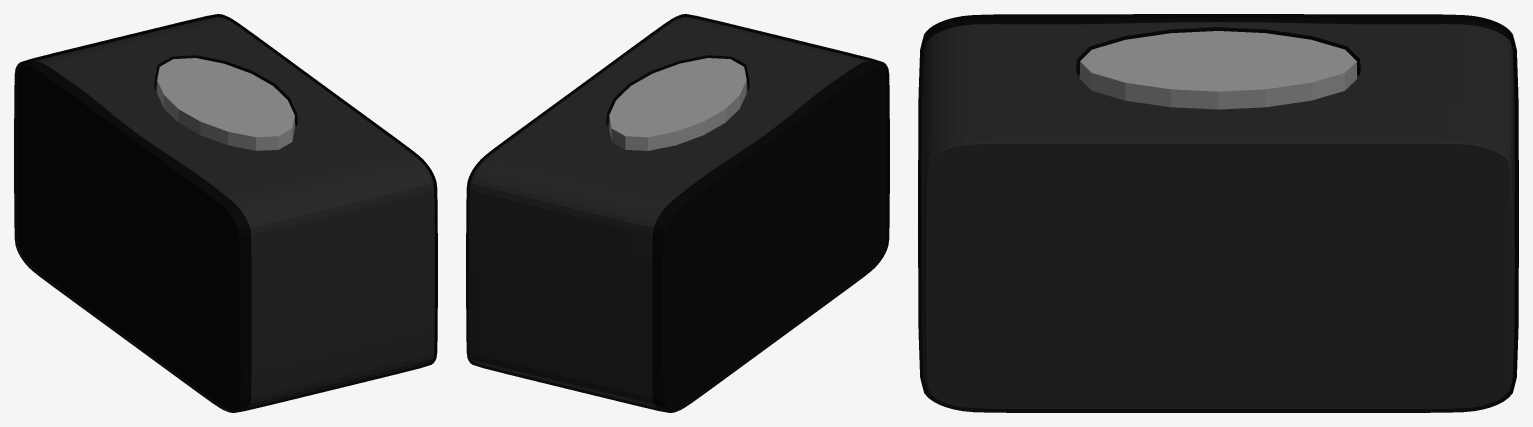
The model's file is AlarmClockV1.fbx.
3 views of the same model, side by side, from view 1: azimuth 30°, elevation 25°; view 2: azimuth 150°, elevation 25°; view 3: azimuth 270°, elevation 25° (orthographic). The views are drawn at different scales.
Visible parts, largest first — view 1: Alarm Clock; view 2: Alarm Clock; view 3: Alarm Clock.
Part boxes in pixels (<box>): Alarm Clock: <box>14,14,437,412</box>; Alarm Clock: <box>466,14,889,412</box>; Alarm Clock: <box>918,14,1518,412</box>.
Size of the model in its own units: 30.8 by 32.8 by 60.78.
Materials: 2 (1 with a texture image).
